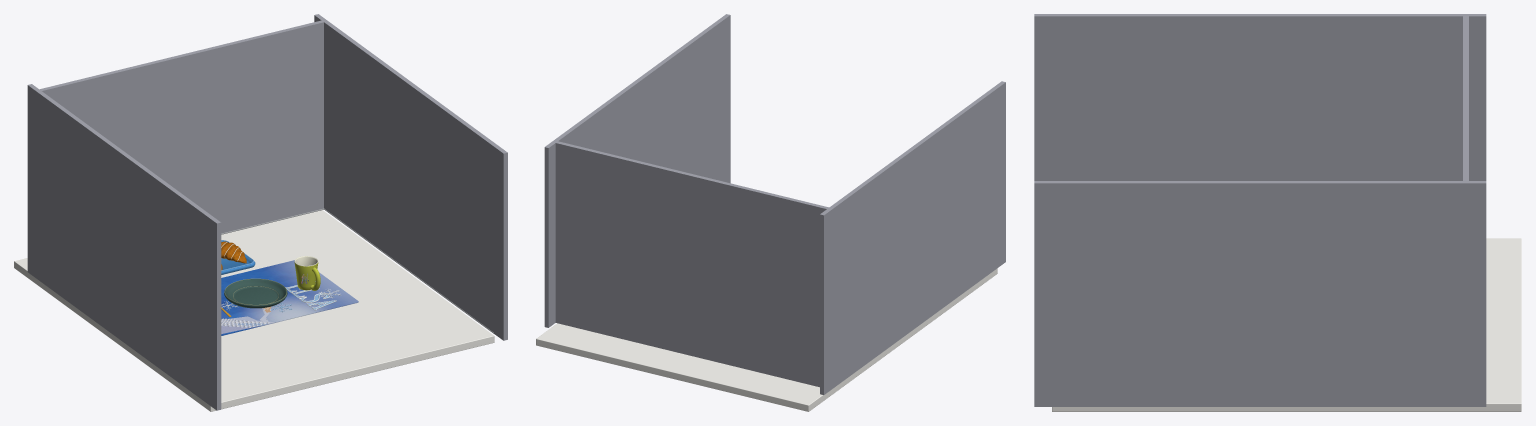
File: codex.glb
The picture shows the model from 3 angles, left to right: view 1: azimuth 30°, elevation 25°; view 2: azimuth 150°, elevation 25°; view 3: azimuth 270°, elevation 25°; orthographic projection. The views are drawn at different scales.
Visible parts, largest first — view 1: Left wall, Back wall, Right wall, Table white platform, Rounded laminated mat, Plate ceramic body, Mug ceramic shell; view 2: Back wall, Left wall, Right wall, Table white platform; view 3: Right wall, Left wall, Table white platform, Back wall.
Boxes of the visible parts, <box> form: Left wall: <box>27,84,221,410</box>; Back wall: <box>39,20,323,233</box>; Right wall: <box>314,14,507,340</box>; Table white platform: <box>14,210,494,411</box>; Rounded laminated mat: <box>221,260,358,335</box>; Plate ceramic body: <box>224,279,287,308</box>; Mug ceramic shell: <box>294,256,318,290</box>; Back wall: <box>555,141,829,387</box>; Left wall: <box>820,81,1005,394</box>; Right wall: <box>544,14,730,327</box>; Table white platform: <box>536,268,997,411</box>; Right wall: <box>1034,181,1486,406</box>; Left wall: <box>1034,14,1486,180</box>; Table white platform: <box>1052,238,1521,411</box>; Back wall: <box>1463,16,1468,181</box>.
Bounding box in the file's own units: 6.83 × 4.36 × 8.3.
37 materials, 12 textured.
